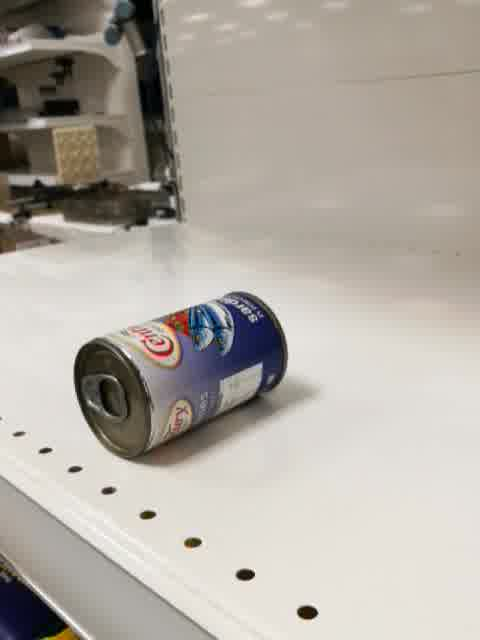sardine: (73, 292, 288, 460)
